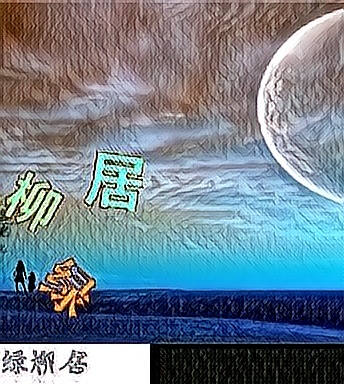BED3: (82, 150, 147, 214)
C1F8: (4, 168, 69, 232)
C2CC: (36, 254, 101, 318)
